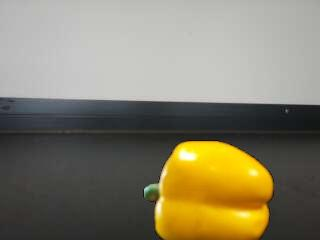Capsicum: (144, 141, 275, 240)
